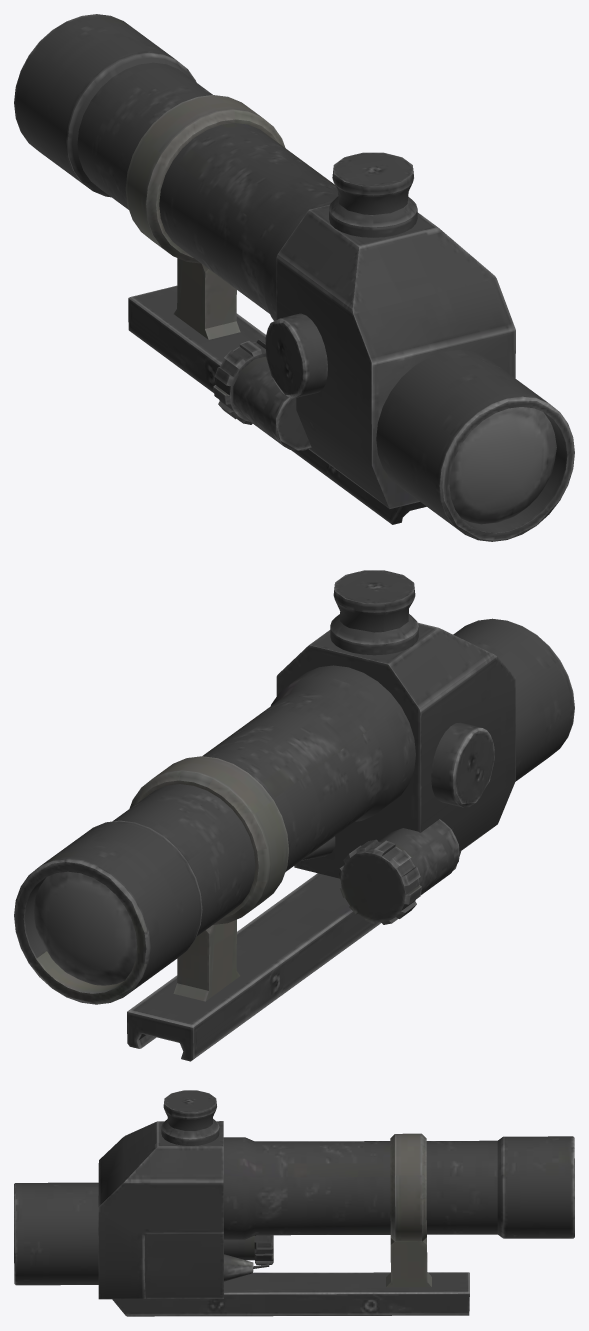
The model's file is scope-sniper.glb.
3 views of the same model, one above another, from view 1: azimuth 30°, elevation 25°; view 2: azimuth 150°, elevation 25°; view 3: azimuth 270°, elevation 25° (orthographic). The views are drawn at different scales.
Visible parts, largest first — view 1: Scope_SCOPE_0; view 2: Scope_SCOPE_0; view 3: Scope_SCOPE_0.
Part boxes in pixels (x1,y1,x2,y2): Scope_SCOPE_0: [14, 14, 574, 541]; Scope_SCOPE_0: [14, 570, 574, 1061]; Scope_SCOPE_0: [14, 1090, 574, 1316].
Bounding box in the file's own units: 0.0688 × 0.121 × 0.3.
Materials: 1 (1 with a texture image).
